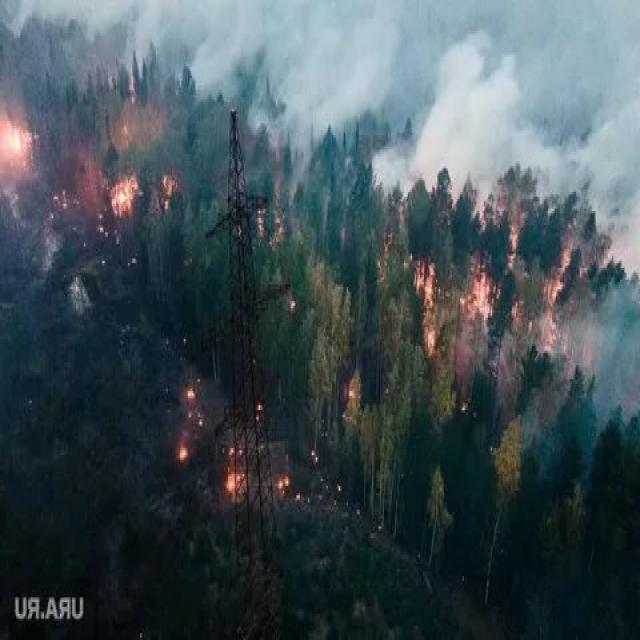Fire: (9, 59, 183, 248)
